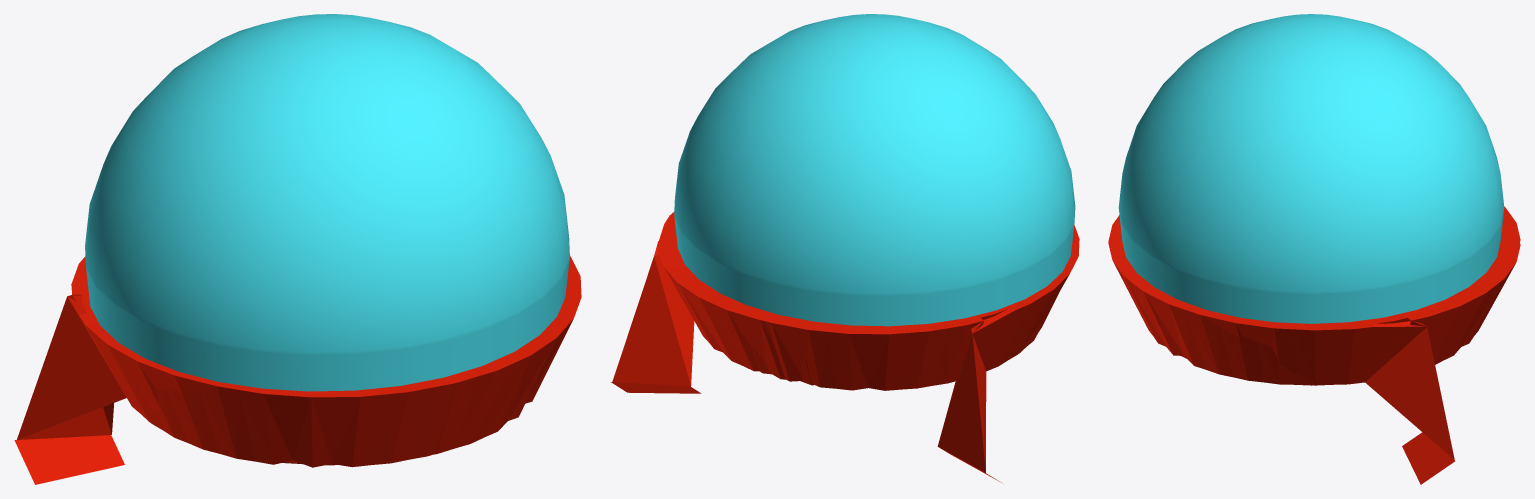
The model's file is Animated with flying.glb.
3 renders of one model, left to right at view 1: azimuth 30°, elevation 25°; view 2: azimuth 150°, elevation 25°; view 3: azimuth 270°, elevation 25°, orthographic. The views are drawn at different scales.
Visible parts, largest first — view 1: Sphere, Wall; view 2: Sphere, Wall; view 3: Sphere, Wall.
Part boxes in pixels (bbox=[...]): Sphere: bbox=[85, 14, 569, 391]; Wall: bbox=[14, 256, 581, 484]; Sphere: bbox=[674, 14, 1075, 326]; Wall: bbox=[611, 212, 1079, 483]; Sphere: bbox=[1118, 14, 1504, 323]; Wall: bbox=[1108, 206, 1520, 484].
Size of the model in its own units: 28.33 by 26.26 by 27.24.
